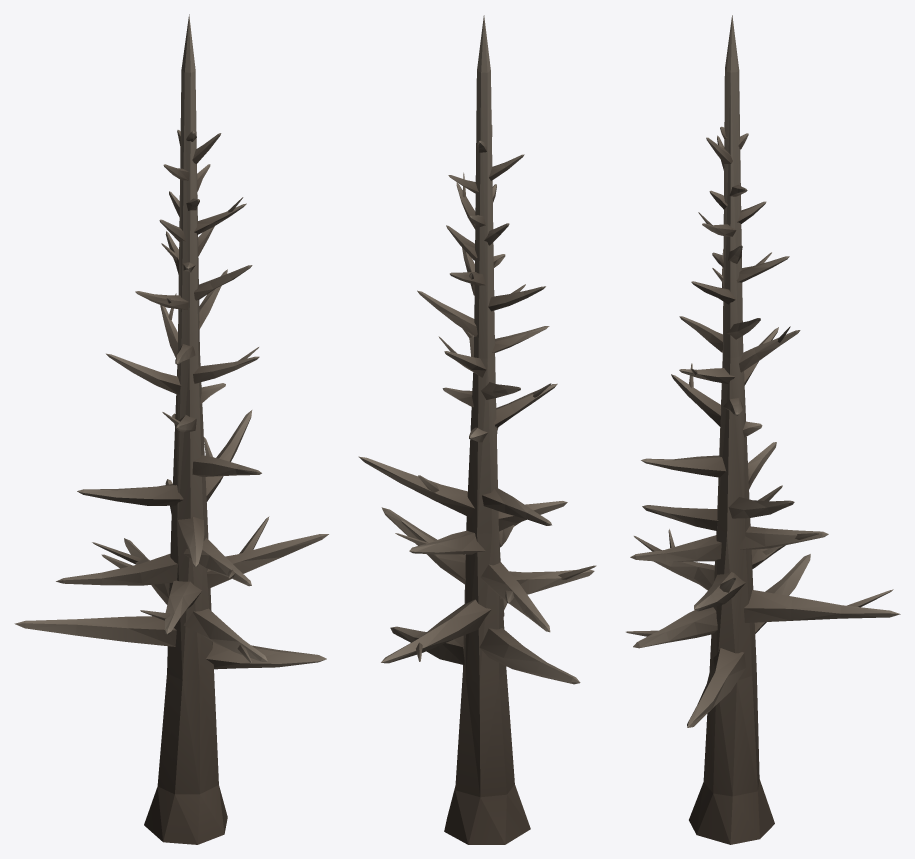
Rendered from dead_L_std_gapped_s3.glb.
The picture shows the model from 3 angles, left to right: view 1: azimuth 30°, elevation 25°; view 2: azimuth 150°, elevation 25°; view 3: azimuth 270°, elevation 25°; orthographic projection.
Visible parts, largest first — view 1: Tree; view 2: Tree; view 3: Tree.
Part boxes in pixels (left/top/right/bottom): Tree: left=14, top=14, right=328, bottom=844; Tree: left=358, top=15, right=596, bottom=844; Tree: left=626, top=15, right=900, bottom=844.
Size of what is drawn, in the model's own units: 2.65 by 8 by 2.46.
